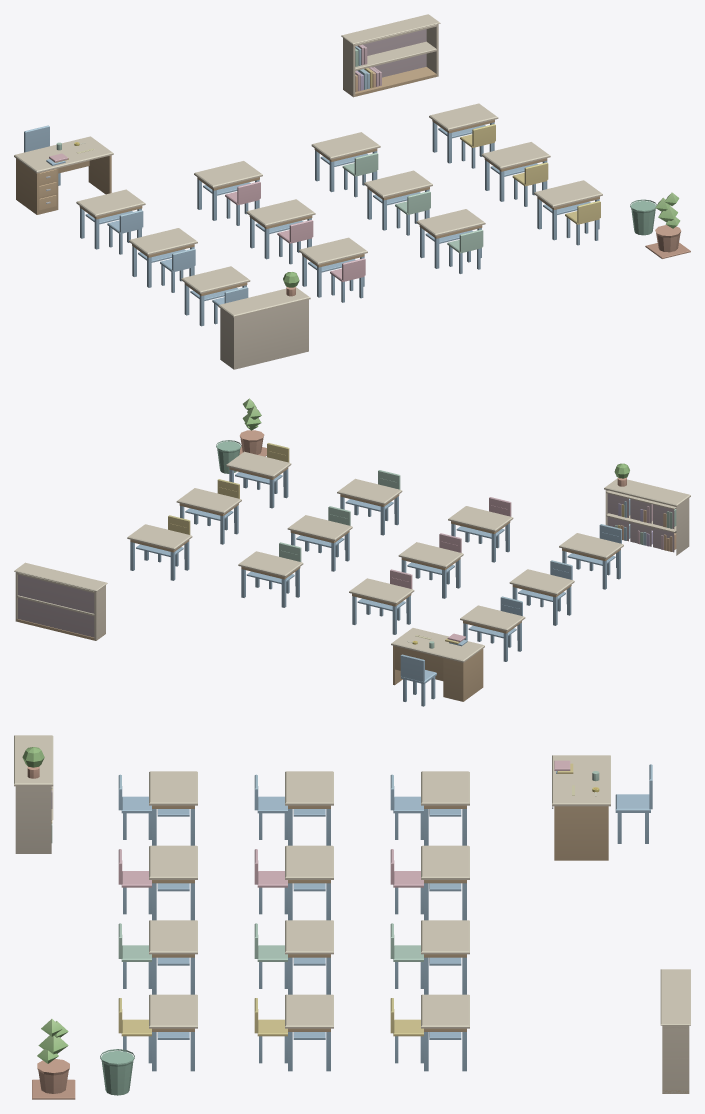
File: k4_interior_props.glb
3 views of the same model, one above another, from view 1: azimuth 30°, elevation 25°; view 2: azimuth 150°, elevation 25°; view 3: azimuth 270°, elevation 25° (orthographic). The views are drawn at different scales.
Parts seen in each view (by area): view 1: almari_kelas, rak_buku_kecil, meja_guru, meja_murid_12, meja_murid_11, meja_murid_10, meja_murid_4, meja_murid_8, meja_murid_3, meja_murid_1, meja_murid_7, meja_murid_6 (+6 smaller); view 2: rak_buku_kecil, almari_kelas, meja_guru, meja_murid_4, meja_murid_3, meja_murid_2, meja_murid_12, meja_murid_6, meja_murid_5, meja_murid_1, meja_murid_10, meja_murid_7 (+6 smaller); view 3: meja_guru, almari_kelas, rak_buku_kecil, meja_murid_4, meja_murid_8, meja_murid_2, meja_murid_6, meja_murid_10, meja_murid_1, meja_murid_5, meja_murid_9, meja_murid_12 (+6 smaller).
Part boxes in pixels (x1,y1,x2,y2): almari_kelas: [218, 272, 310, 369]; rak_buku_kecil: [341, 14, 440, 97]; meja_guru: [14, 136, 113, 214]; meja_murid_12: [534, 180, 602, 245]; meja_murid_11: [416, 209, 485, 273]; meja_murid_10: [299, 237, 367, 302]; meja_murid_4: [429, 103, 498, 168]; meja_murid_8: [481, 142, 550, 206]; meja_murid_3: [311, 132, 380, 197]; meja_murid_1: [76, 189, 145, 254]; meja_murid_7: [364, 170, 432, 235]; meja_murid_6: [246, 199, 315, 264]; rak_buku_kecil: [14, 562, 107, 640]; almari_kelas: [604, 463, 690, 555]; meja_guru: [391, 628, 484, 701]; meja_murid_4: [127, 515, 192, 580]; meja_murid_3: [238, 542, 303, 607]; meja_murid_2: [349, 569, 414, 634]; meja_murid_12: [226, 443, 291, 508]; meja_murid_6: [398, 533, 463, 598]; meja_murid_5: [509, 560, 574, 625]; meja_murid_1: [460, 596, 525, 661]; meja_murid_10: [448, 497, 513, 562]; meja_murid_7: [287, 506, 352, 571]; meja_guru: [552, 755, 610, 860]; almari_kelas: [14, 735, 53, 853]; rak_buku_kecil: [660, 969, 690, 1093]; meja_murid_4: [390, 994, 469, 1071]; meja_murid_8: [254, 994, 333, 1071]; meja_murid_2: [390, 845, 469, 920]; meja_murid_6: [254, 845, 333, 920]; meja_murid_10: [118, 845, 197, 920]; meja_murid_1: [390, 771, 469, 845]; meja_murid_5: [254, 771, 333, 845]; meja_murid_9: [118, 771, 197, 845]; meja_murid_12: [118, 994, 197, 1071].
Size of the model in its own units: 8.69 by 1.38 by 8.47.
